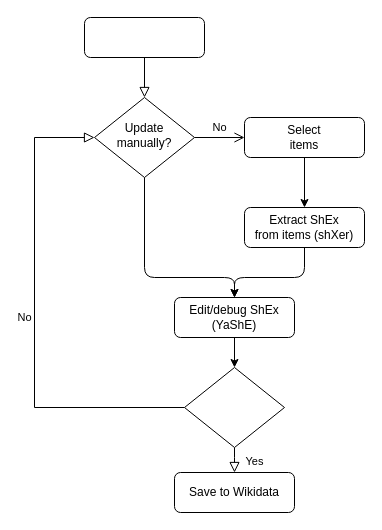
This 382x530 diagram has some shape labels left out. The centre of each missing label's shape, as x and y in pixels:
"OK?" goes at point (234, 407).
"Update/create entity schema" goes at point (144, 37).
